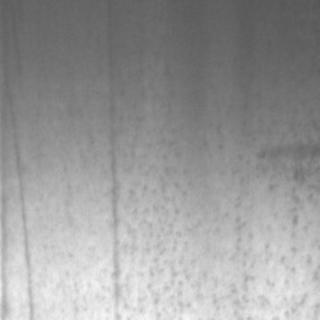pitted_surface: (46, 118, 318, 318)
